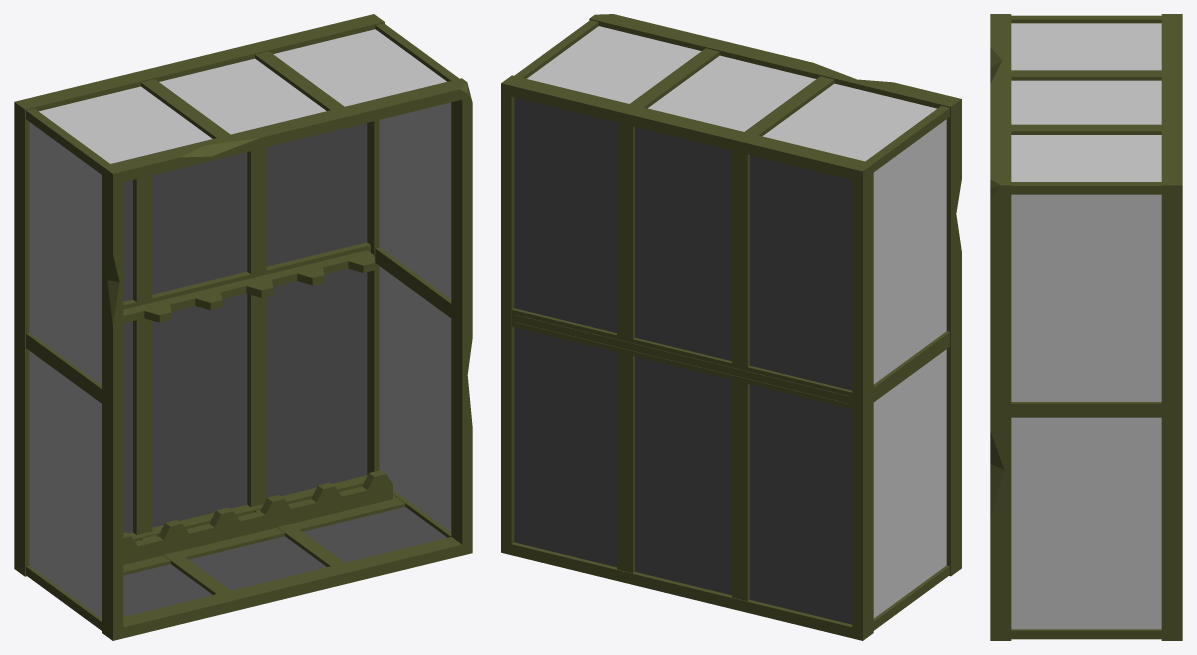
The model's file is SM_Prop_Gunlocker_01.fbx.
3 views of the same model, side by side, from view 1: azimuth 30°, elevation 25°; view 2: azimuth 150°, elevation 25°; view 3: azimuth 270°, elevation 25° (orthographic). The views are drawn at different scales.
Visible parts, largest first — view 1: SM_Prop_Gunlocker_01; view 2: SM_Prop_Gunlocker_01; view 3: SM_Prop_Gunlocker_01.
Part boxes in pixels (x1,y1,x2,y2): SM_Prop_Gunlocker_01: (14,14,472,640); SM_Prop_Gunlocker_01: (501,14,961,640); SM_Prop_Gunlocker_01: (990,14,1182,640).
Size of what is drawn, in the model's own units: 142 by 176 by 67.23.
